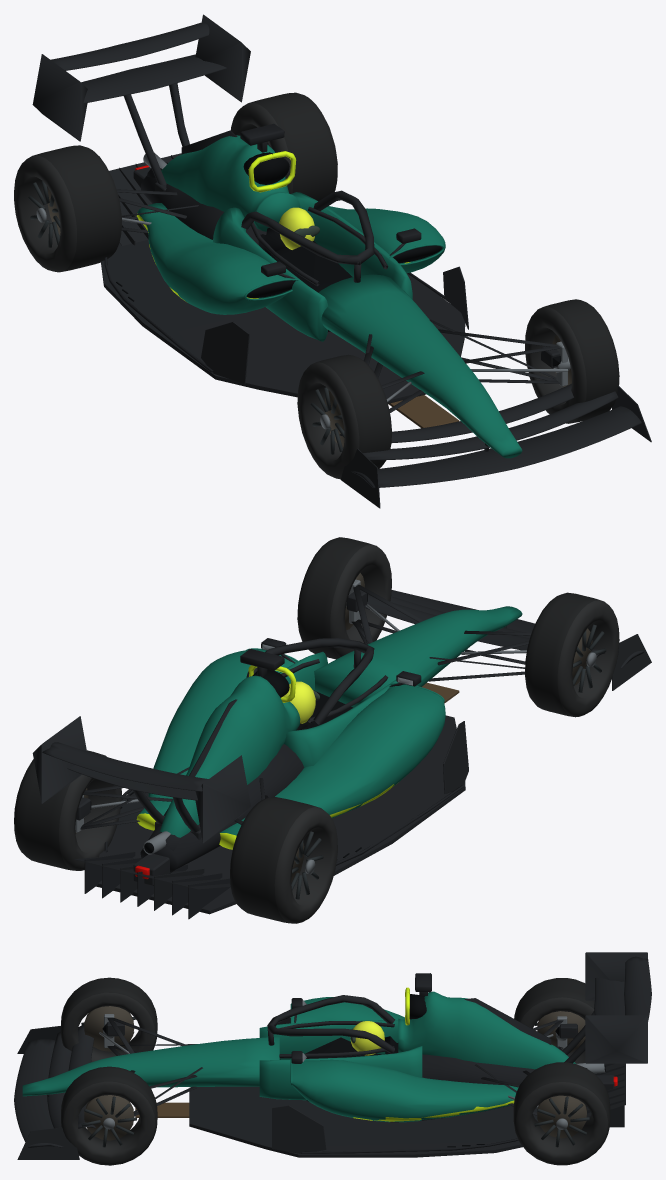
Rendered from amr26-lod2.glb.
3 renders of one model, top to bottom at view 1: azimuth 30°, elevation 25°; view 2: azimuth 150°, elevation 25°; view 3: azimuth 270°, elevation 25°, orthographic. The views are drawn at different scales.
Visible parts, largest first — view 1: L2_Chassis, L2_Wheel_RL, L2_Wheel_FL, L2_Wheel_FR, L2_Wheel_RR; view 2: L2_Chassis, L2_Wheel_RL, L2_Wheel_FL, L2_Wheel_RR, L2_Wheel_FR; view 3: L2_Chassis, L2_Wheel_RR, L2_Wheel_FR, L2_Wheel_FL, L2_Wheel_RL.
Part boxes in pixels (bbox=[...]): L2_Chassis: bbox=[32, 14, 651, 508]; L2_Wheel_RL: bbox=[14, 145, 121, 272]; L2_Wheel_FL: bbox=[297, 354, 391, 479]; L2_Wheel_FR: bbox=[525, 299, 619, 423]; L2_Wheel_RR: bbox=[231, 92, 337, 201]; L2_Chassis: bbox=[32, 573, 651, 919]; L2_Wheel_RL: bbox=[230, 796, 337, 923]; L2_Wheel_FL: bbox=[525, 592, 619, 717]; L2_Wheel_RR: bbox=[14, 750, 121, 870]; L2_Wheel_FR: bbox=[297, 537, 391, 659]; L2_Chassis: bbox=[14, 952, 651, 1159]; L2_Wheel_RR: bbox=[513, 1062, 610, 1165]; L2_Wheel_FR: bbox=[61, 1066, 157, 1165]; L2_Wheel_FL: bbox=[61, 977, 157, 1062]; L2_Wheel_RL: bbox=[514, 978, 594, 1063].
Bounding box in the file's own units: 1.9 × 1.13 × 4.79.
